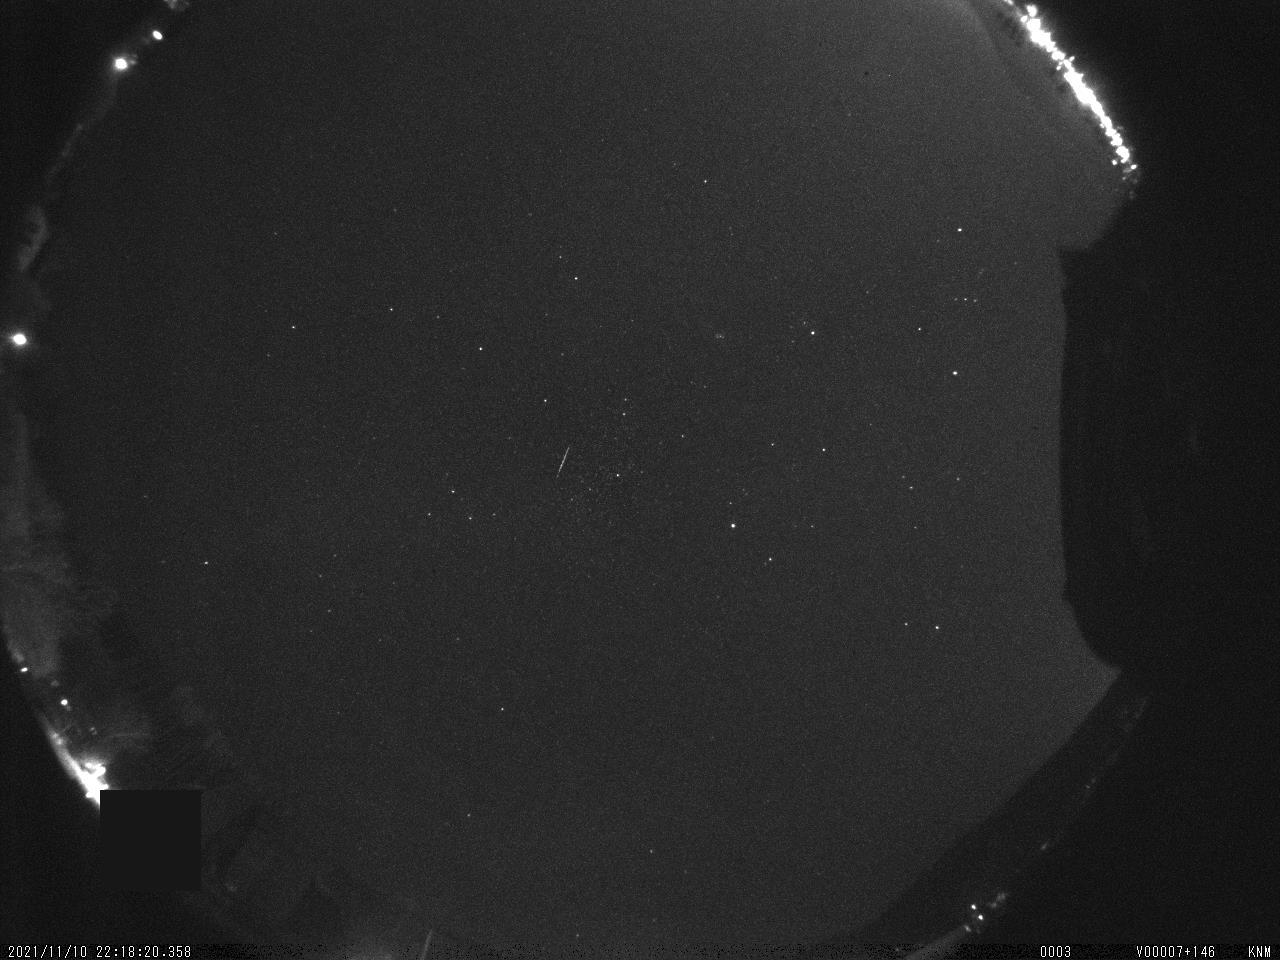meteor: (543, 440, 583, 494)
